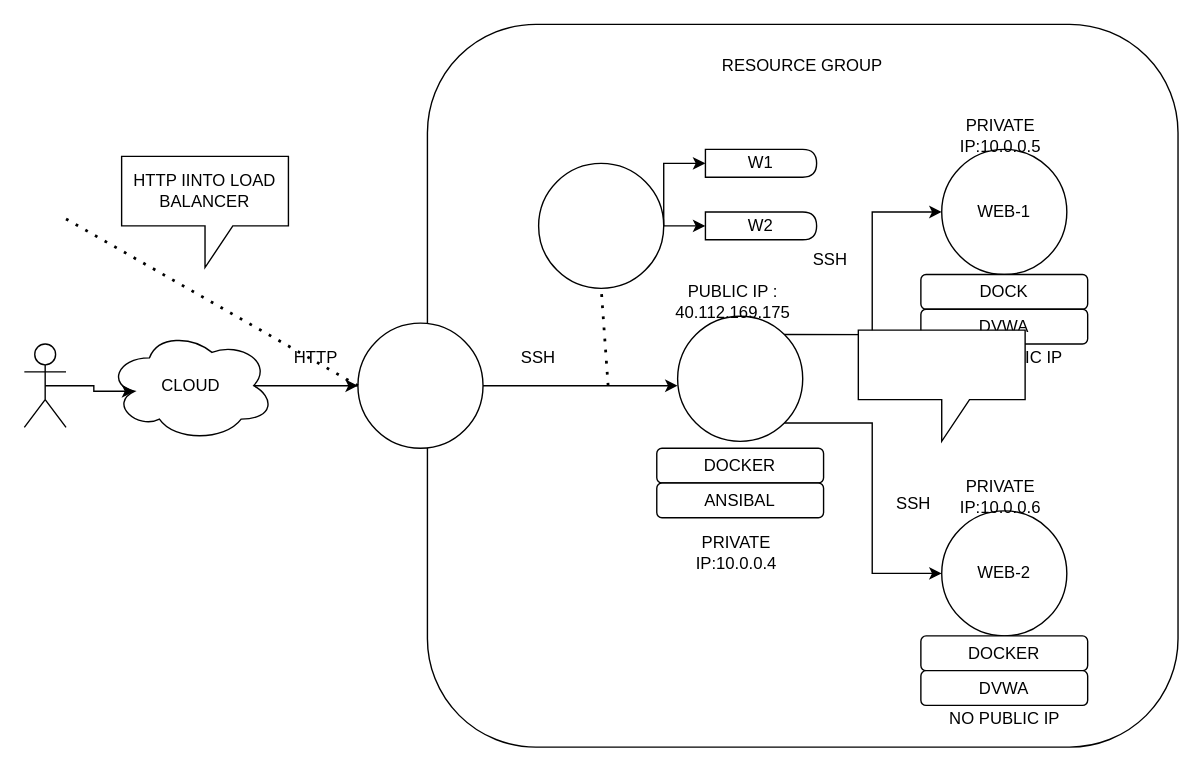
Image size: 1202x771. Some labels were removed from this diagram. Each missing label, with the centre of its shape:
Actor: (x=44, y=385)
JBOX: (x=739, y=378)
LOAD BALANCER: (x=600, y=225)
NSG: (x=420, y=385)
